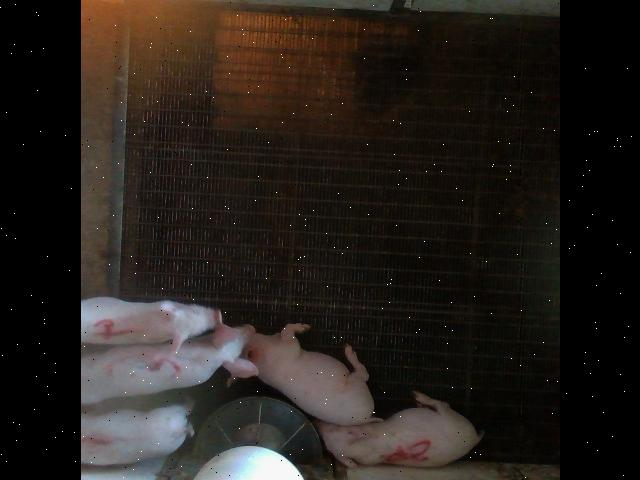pig-1: (82, 405, 192, 464)
pig-3: (82, 325, 258, 404)
pig-4: (81, 298, 221, 351)
pig-5: (314, 391, 481, 468)
